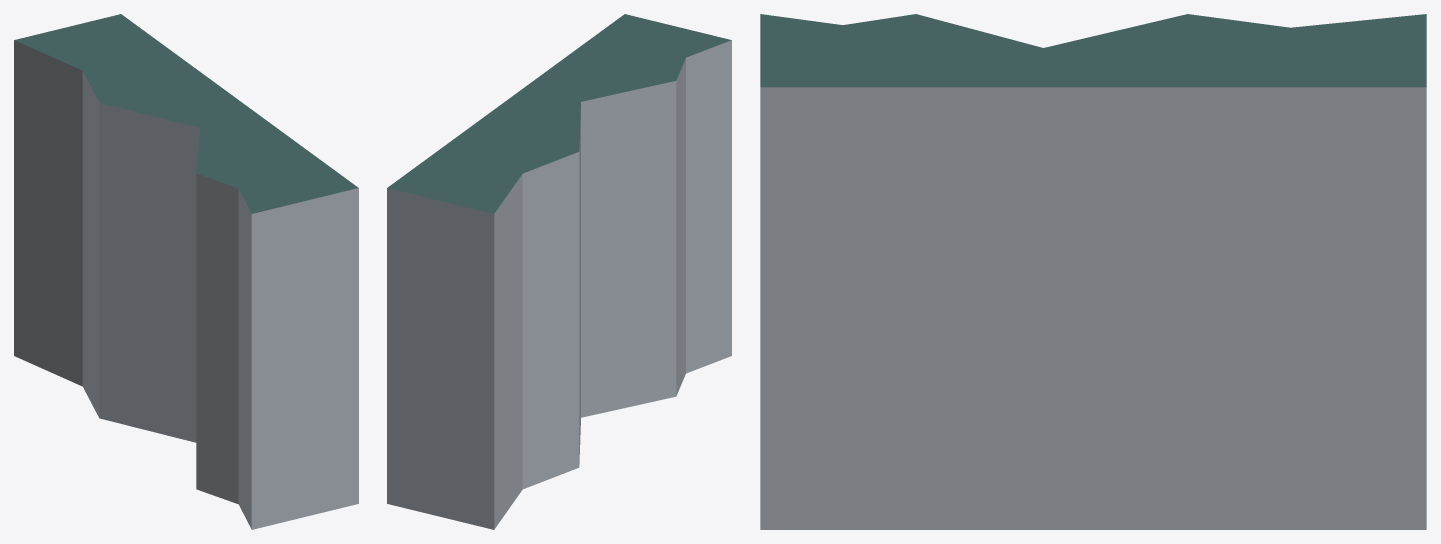
The model's file is Grey_Cliff_Green_Top_01.fbx.
3 renders of one model, left to right at view 1: azimuth 30°, elevation 25°; view 2: azimuth 150°, elevation 25°; view 3: azimuth 270°, elevation 25°, orthographic. The views are drawn at different scales.
Parts seen in each view (by area): view 1: Mesh1_Grey_Cliff_Green_Top Model; view 2: Mesh1_Grey_Cliff_Green_Top Model; view 3: Mesh1_Grey_Cliff_Green_Top Model.
Part boxes in pixels (left/top/right/bottom): Mesh1_Grey_Cliff_Green_Top Model: left=14, top=14, right=358, bottom=529; Mesh1_Grey_Cliff_Green_Top Model: left=387, top=14, right=731, bottom=529; Mesh1_Grey_Cliff_Green_Top Model: left=760, top=14, right=1426, bottom=529.
Bounding box in the file's own units: 0.78 × 2.2 × 3.
